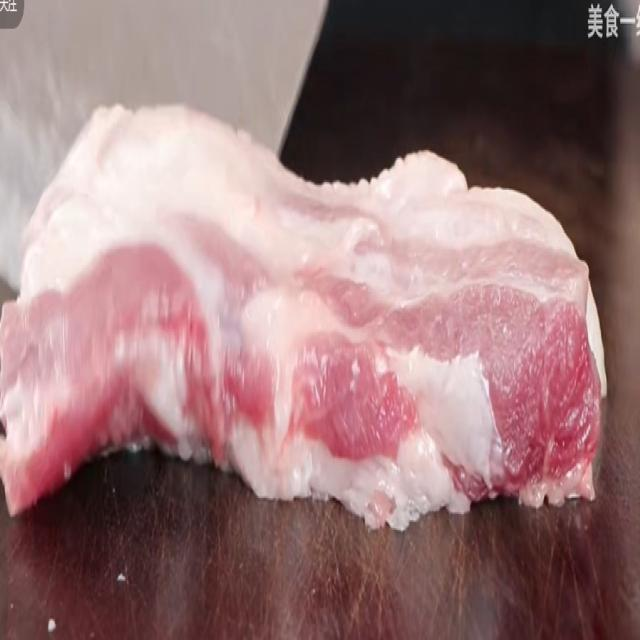pork: (1, 81, 620, 640)
